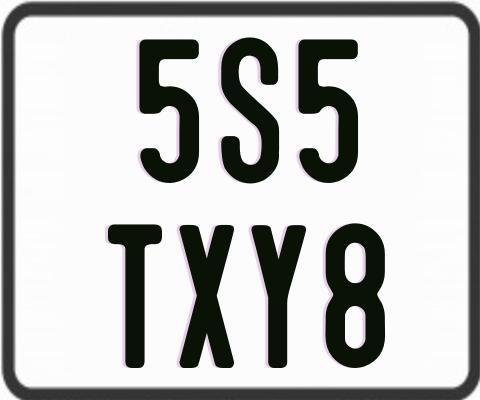5: (139, 37, 204, 185), (296, 38, 361, 185)
8: (325, 222, 386, 368)
S: (221, 36, 282, 186)
T: (106, 223, 160, 373)
X: (177, 224, 236, 369)
Y: (248, 223, 309, 369)
